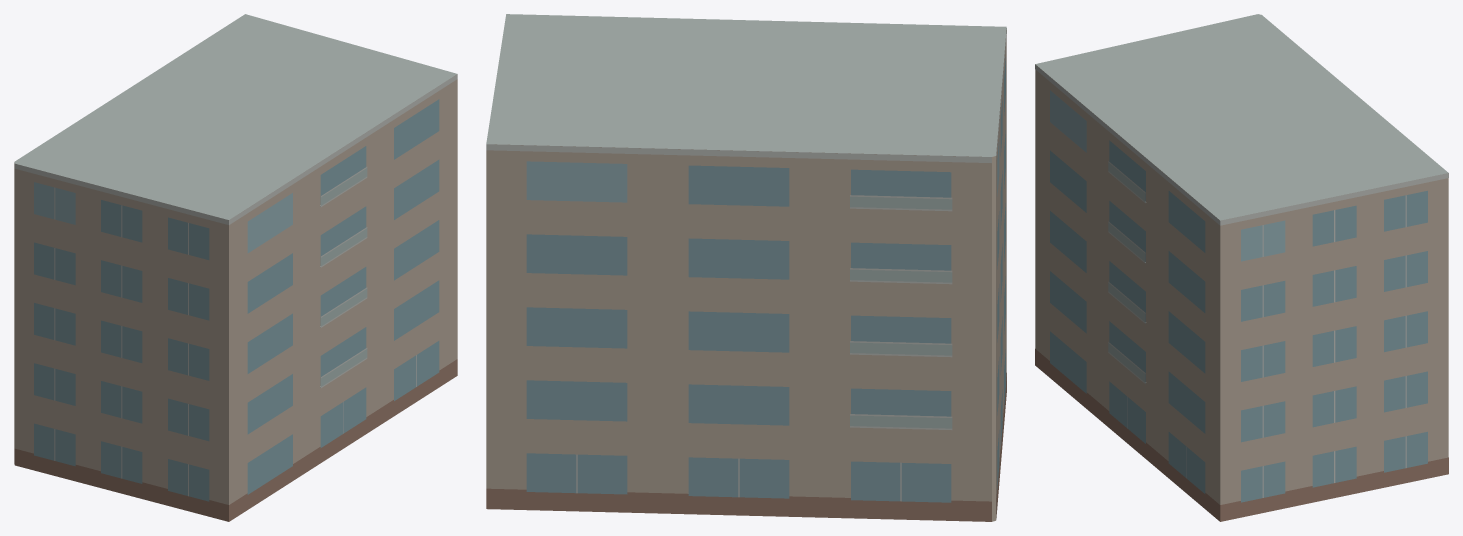
File: survey-upis-32831110.glb
3 renders of one model, left to right at view 1: azimuth 30°, elevation 25°; view 2: azimuth 150°, elevation 25°; view 3: azimuth 270°, elevation 25°, orthographic. The views are drawn at different scales.
Visible parts, largest first — view 1: survey-upis-32831110.tmp; view 2: survey-upis-32831110.tmp; view 3: survey-upis-32831110.tmp.
Part boxes in pixels (x1,y1,x2,y2): survey-upis-32831110.tmp: (14,14,457,521); survey-upis-32831110.tmp: (486,14,1006,521); survey-upis-32831110.tmp: (1035,14,1448,521).
Size of the model in its own units: 21.41 by 14.55 by 18.11.
